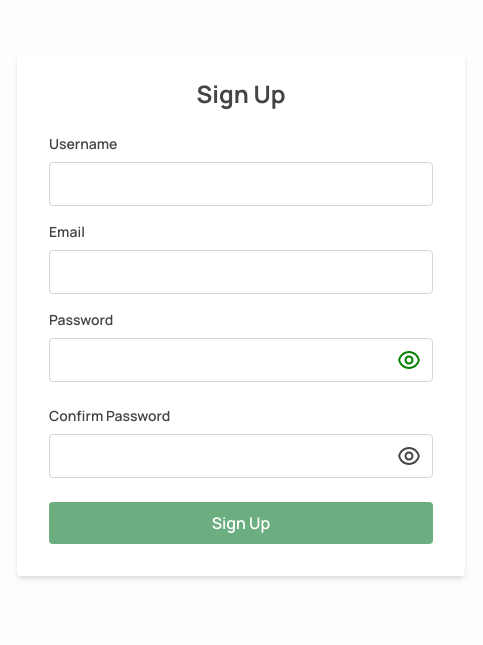
Test: AuthForm › shows validation errors on empty submit
Click the button "Sign Up": (241,523) [49,502,433,544]
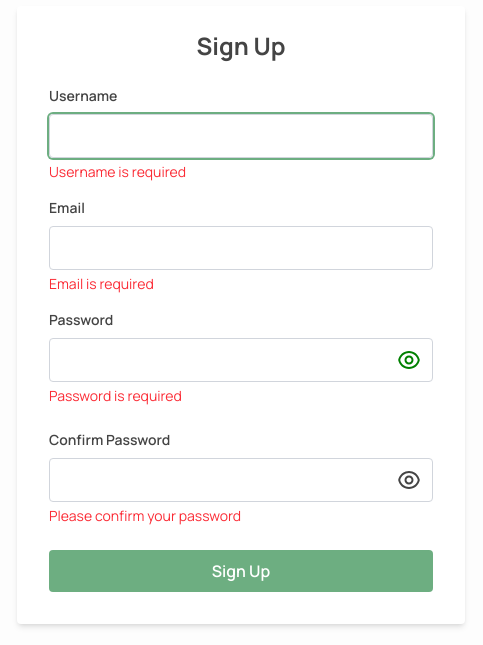
Expected: the text "Username is required" is shown, [49,162,186,181]
Expected: the text "Email is required" is shown, [49,274,154,293]
Expected: the text "Password is required" is shown, [49,386,182,405]
